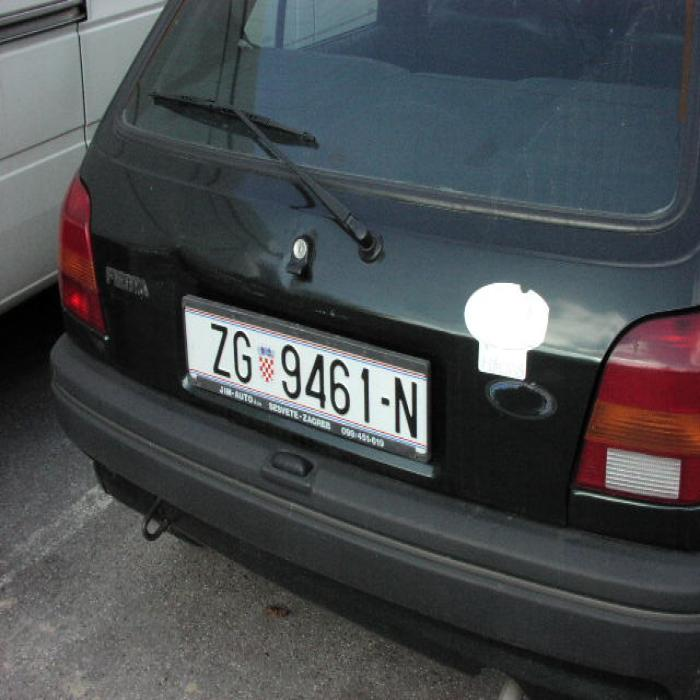number_plate: (183, 309, 424, 449)
